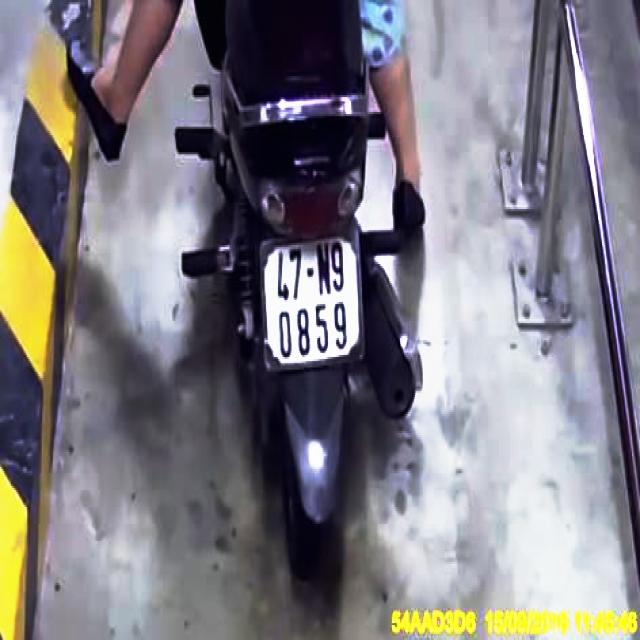license_plate: (259, 231, 365, 373)
